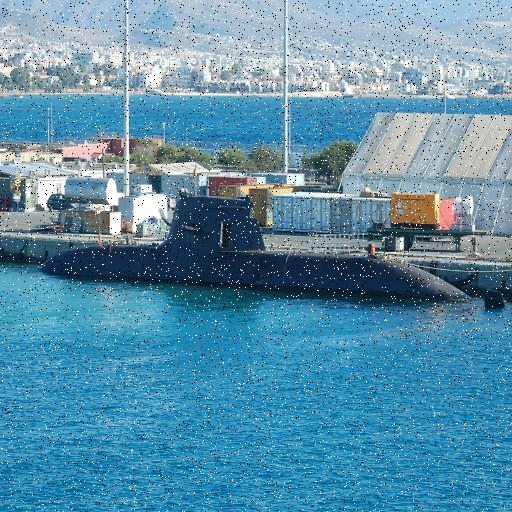submarine: (41, 198, 476, 304)
